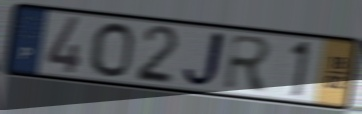1: (288, 40, 312, 99)
2: (135, 24, 181, 87)
4: (45, 14, 84, 77)
J: (179, 28, 228, 91)
O: (88, 21, 136, 80)
R: (221, 32, 274, 94)
